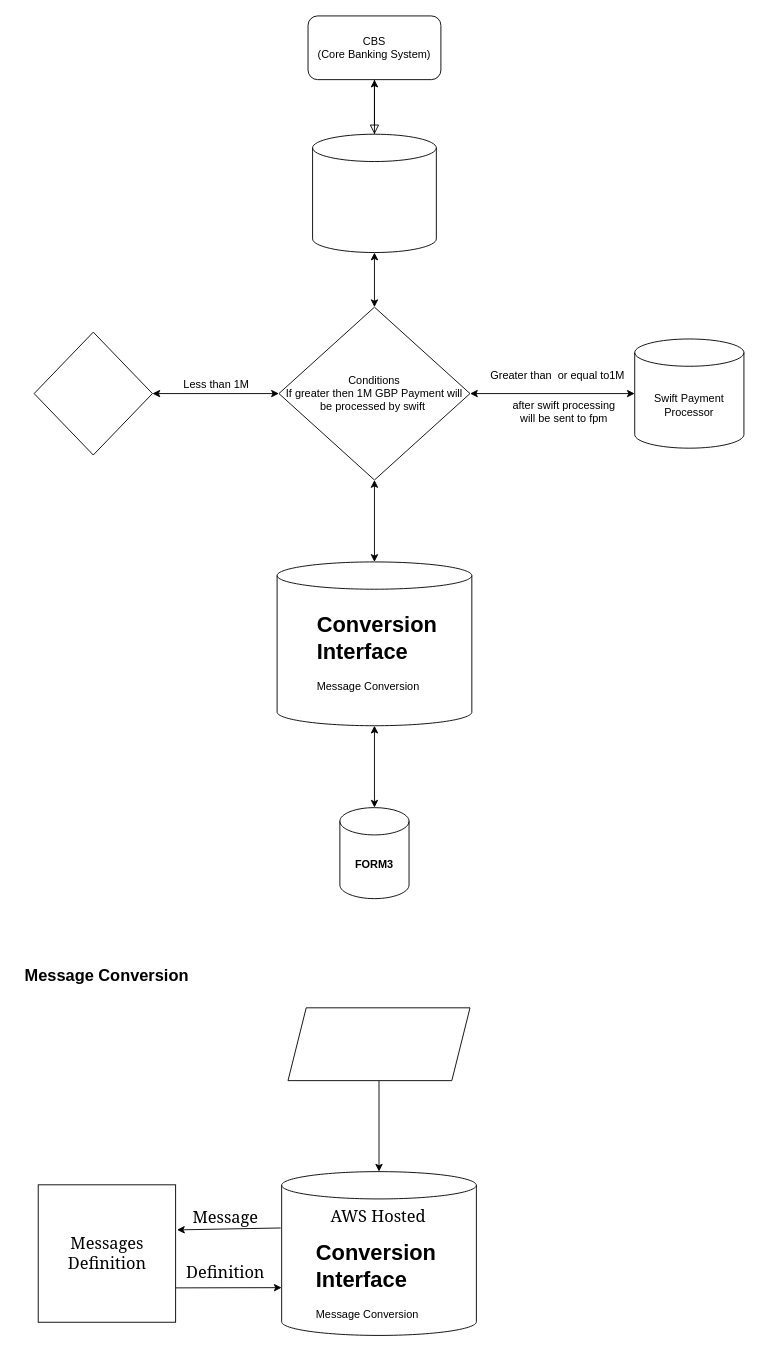
The diagram is 760 pixels wide and 1351 high, and some of its shapes have lost their labels. The box of each missing label's shape, as (x1, y1, x2, y2) in pixels:
FPM (Fusion Package Messanger): (312, 133, 436, 253)
Message eg: MT2002: (287, 1007, 470, 1081)
Ofac Watch (User Authenticity Validation): (33, 331, 152, 455)
